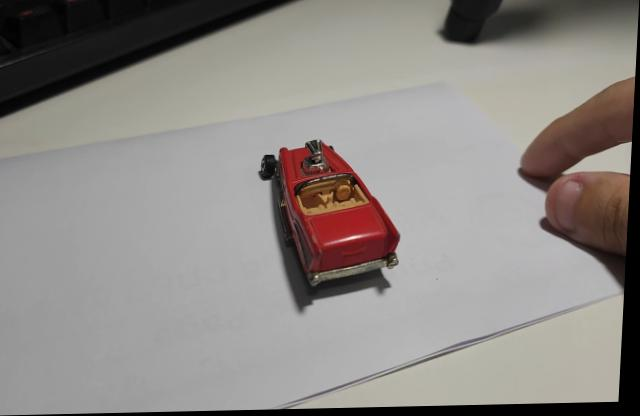03_V8: (260, 142, 404, 291)
